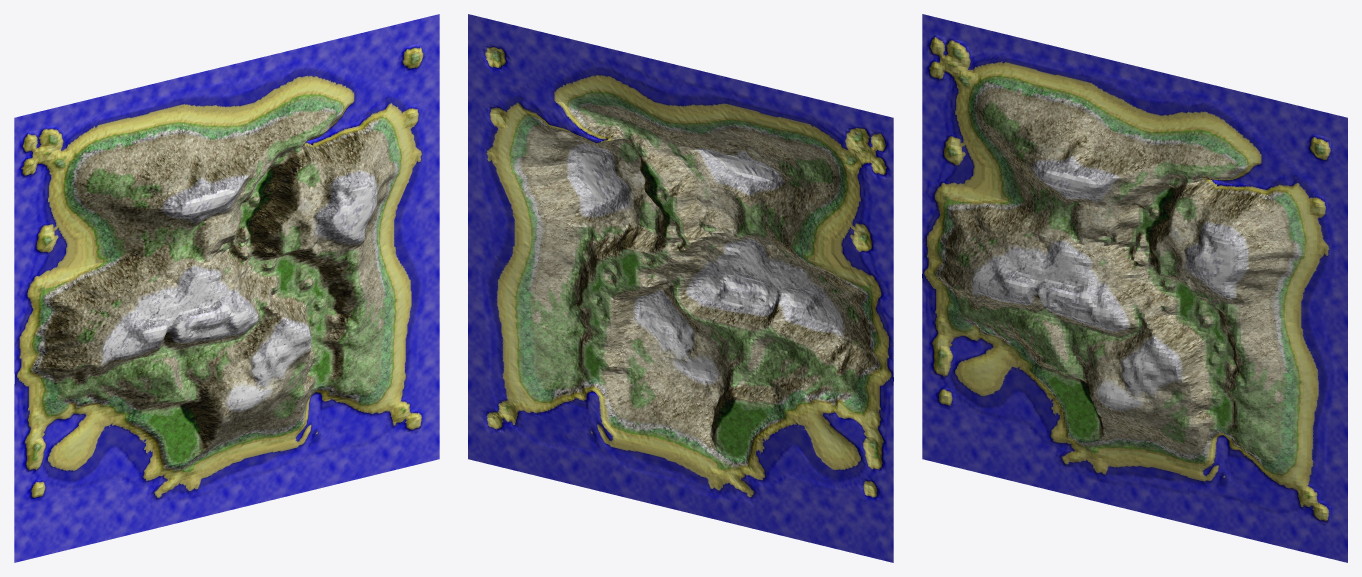
The model's file is island.obj.
3 views of the same model, side by side, from view 1: azimuth 30°, elevation 25°; view 2: azimuth 150°, elevation 25°; view 3: azimuth 330°, elevation 25° (orthographic).
Visible parts, largest first — view 1: Mesh0; view 2: Mesh0; view 3: Mesh0.
Boxes of the visible parts, bbox=[...] form: Mesh0: bbox=[14, 14, 439, 562]; Mesh0: bbox=[468, 14, 893, 562]; Mesh0: bbox=[922, 14, 1347, 562].
Bounding box in the file's own units: 1000 × 1000 × 102.
Materials: 1 (1 with a texture image).
